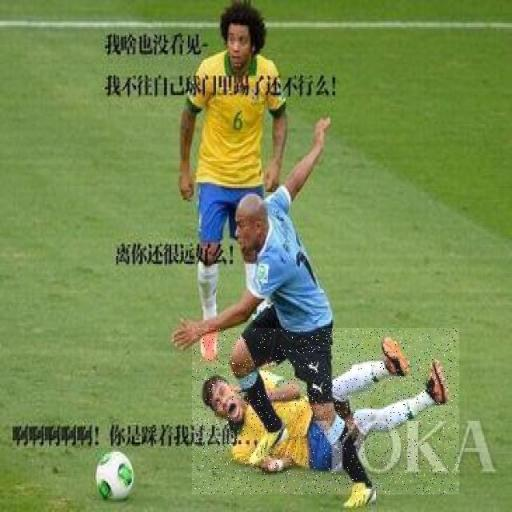Fall: (192, 328, 459, 494)
